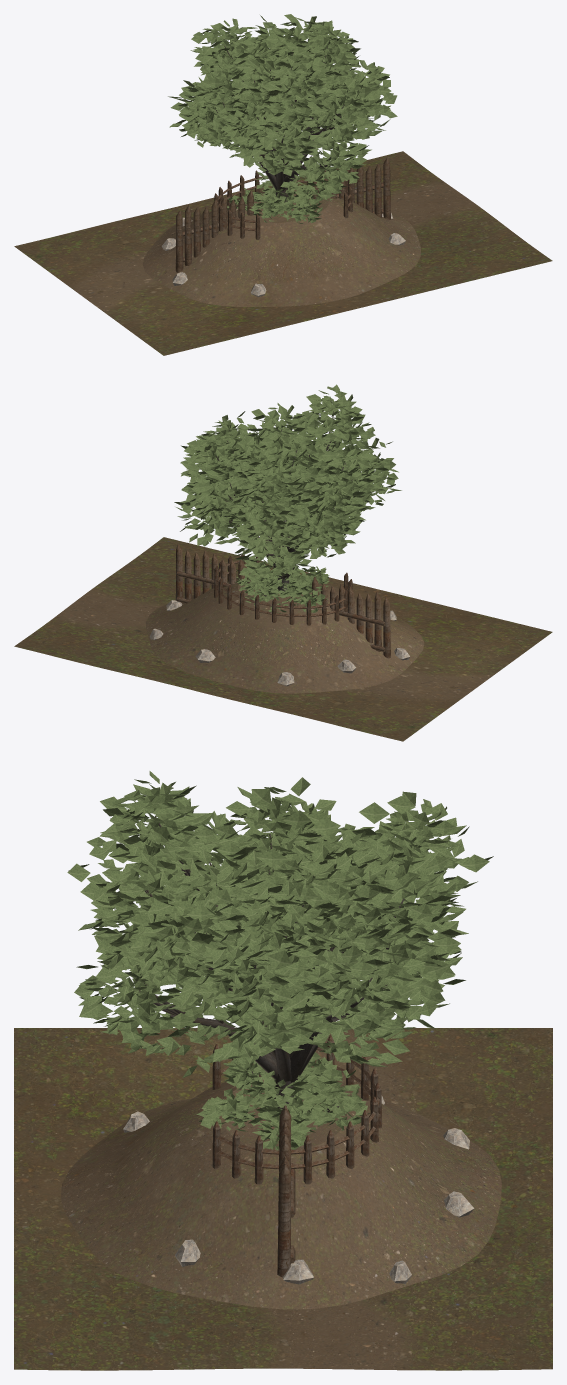
File: asset.glb
3 renders of one model, top to bottom at view 1: azimuth 30°, elevation 25°; view 2: azimuth 150°, elevation 25°; view 3: azimuth 270°, elevation 25°, orthographic. The views are drawn at different scales.
Visible parts, largest first — view 1: GroundSample_Surfaces, FiringPad_Surfaces, Broadleaf_C_Surfaces, Broadleaf_A_Surfaces, Broadleaf_B_Surfaces, Palisade_Surfaces, Shrub_B_Surfaces; view 2: GroundSample_Surfaces, FiringPad_Surfaces, Broadleaf_C_Surfaces, Broadleaf_A_Surfaces, Broadleaf_B_Surfaces, Palisade_Surfaces, Shrub_B_Surfaces; view 3: GroundSample_Surfaces, FiringPad_Surfaces, Broadleaf_C_Surfaces, Broadleaf_B_Surfaces, Broadleaf_A_Surfaces, Shrub_B_Surfaces, Palisade_Surfaces.
Boxes of the visible parts, left/top/right/bottom form: GroundSample_Surfaces: left=14, top=151, right=552, bottom=355; FiringPad_Surfaces: left=142, top=170, right=420, bottom=306; Broadleaf_C_Surfaces: left=187, top=15, right=382, bottom=202; Broadleaf_A_Surfaces: left=179, top=14, right=389, bottom=178; Broadleaf_B_Surfaces: left=168, top=59, right=397, bottom=200; Palisade_Surfaces: left=175, top=157, right=390, bottom=272; Shrub_B_Surfaces: left=227, top=172, right=335, bottom=223; GroundSample_Surfaces: left=14, top=537, right=552, bottom=741; FiringPad_Surfaces: left=146, top=554, right=424, bottom=693; Broadleaf_C_Surfaces: left=191, top=384, right=375, bottom=590; Broadleaf_A_Surfaces: left=180, top=410, right=384, bottom=589; Broadleaf_B_Surfaces: left=174, top=426, right=401, bottom=591; Palisade_Surfaces: left=175, top=543, right=390, bottom=658; Shrub_B_Surfaces: left=235, top=565, right=329, bottom=612; GroundSample_Surfaces: left=14, top=1028, right=552, bottom=1370; FiringPad_Surfaces: left=60, top=1035, right=501, bottom=1309; Broadleaf_C_Surfaces: left=99, top=771, right=465, bottom=1108; Broadleaf_B_Surfaces: left=67, top=827, right=468, bottom=1094; Broadleaf_A_Surfaces: left=78, top=791, right=493, bottom=1059; Shrub_B_Surfaces: left=196, top=1052, right=370, bottom=1154; Palisade_Surfaces: left=277, top=1105, right=295, bottom=1277.
Bounding box in the file's own units: 6 × 3.38 × 4.
Materials: 6 (6 with a texture image).
